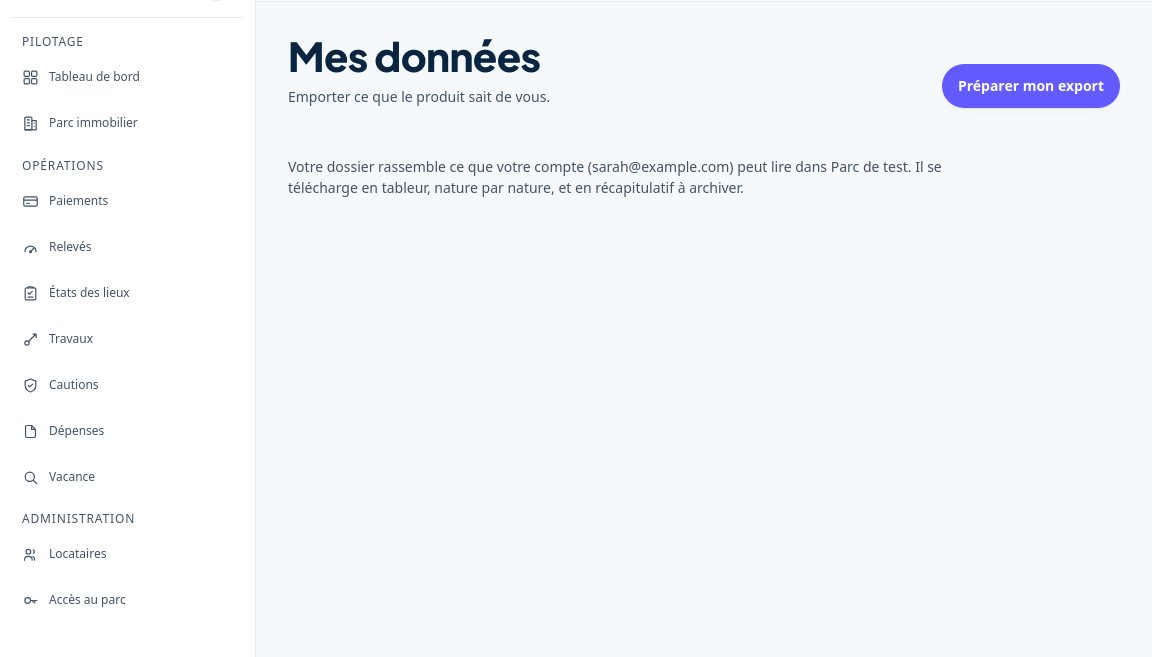
la fermeture du compte › chiffre ce qui disparaîtra, et attend une confirmation
Click the button "Préparer mon export". click: (1031, 86)
box: [942, 64, 1120, 108]
(page scrolled)
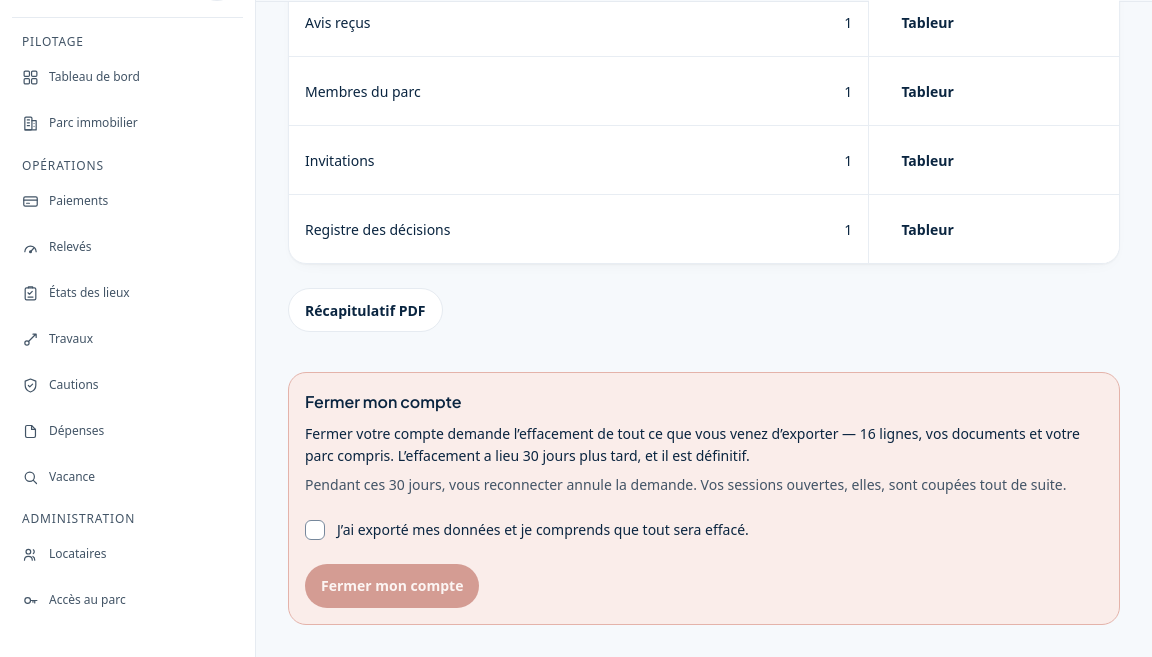
Expected: the element "Fermer mon compte" shows "16", [305, 424, 1080, 465]
Expected: the element "Fermer mon compte" shows "30 jours", [305, 424, 1080, 465]
Expected: the button "Fermer mon compte" is disabled, [305, 564, 479, 608]
Click the checkbox labelled "J’ai exporté mes données". click: (315, 530)
box: [305, 520, 325, 540]
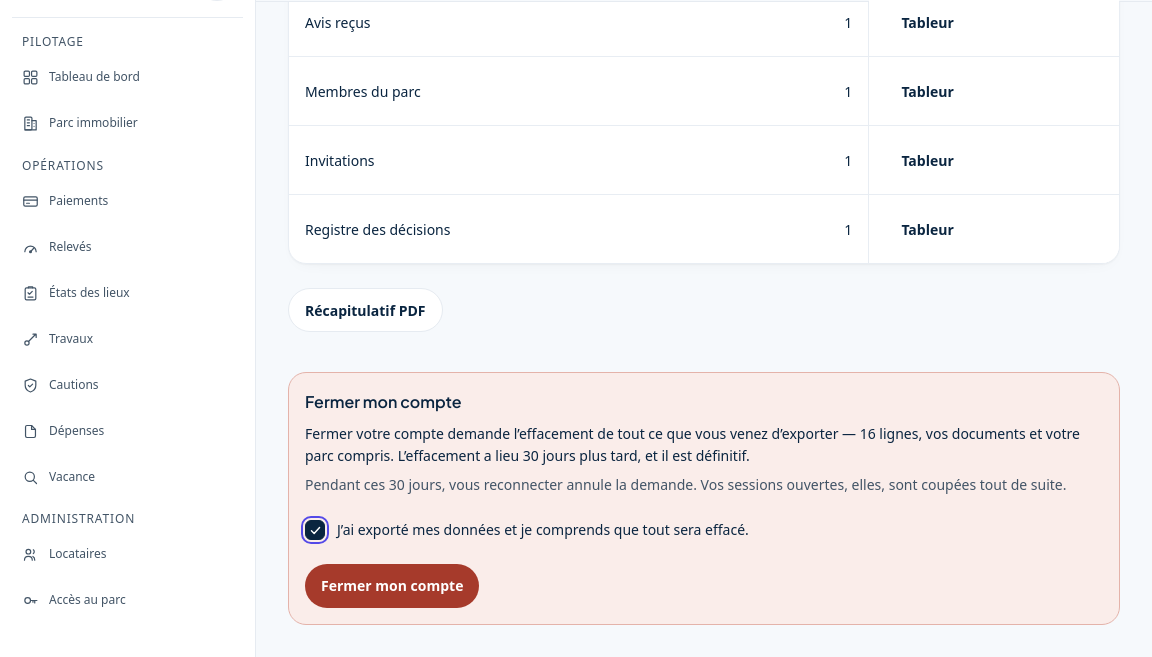
Expected: the button "Fermer mon compte" is enabled, [305, 564, 479, 608]
